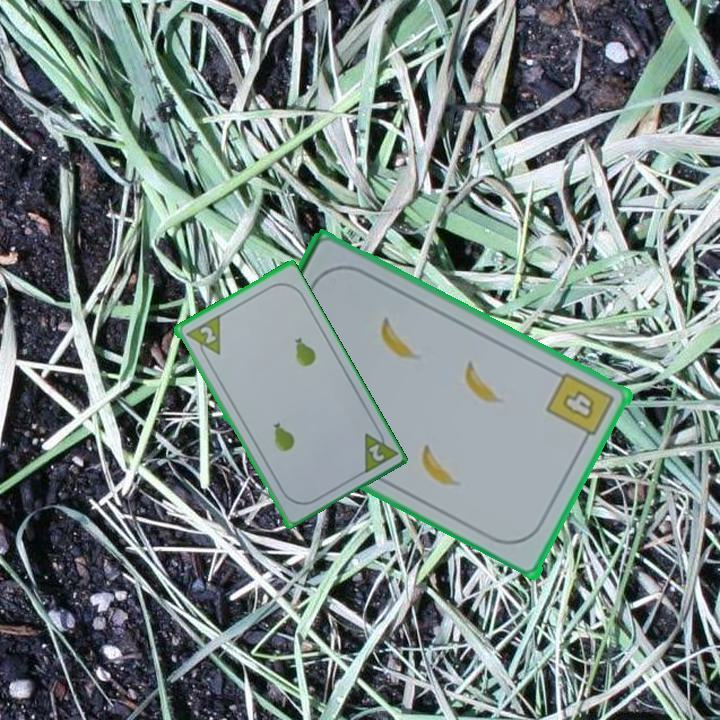2p: (358, 422, 399, 477), (196, 322, 219, 347)
4b: (544, 368, 618, 448)
